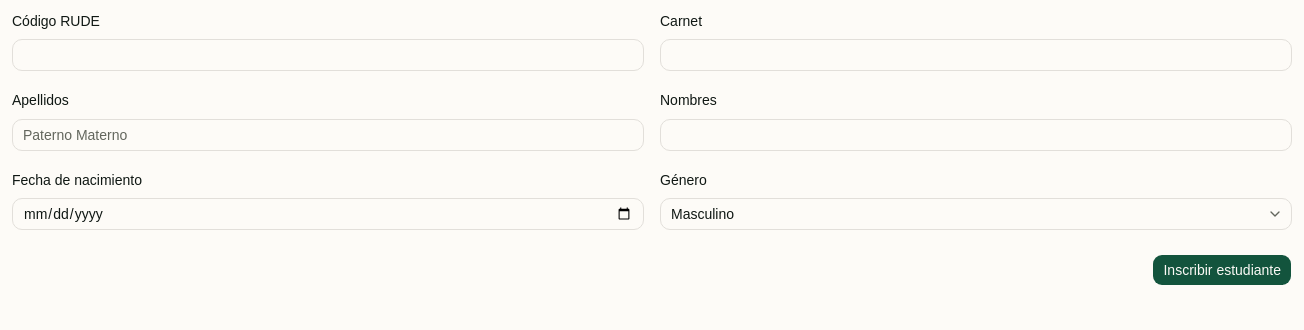
Test: ManualEnrollForm validation timing › reports a required field left empty as soon as it is left
Click the field labelled "Código RUDE" at (328, 55), box [12,39,644,71]
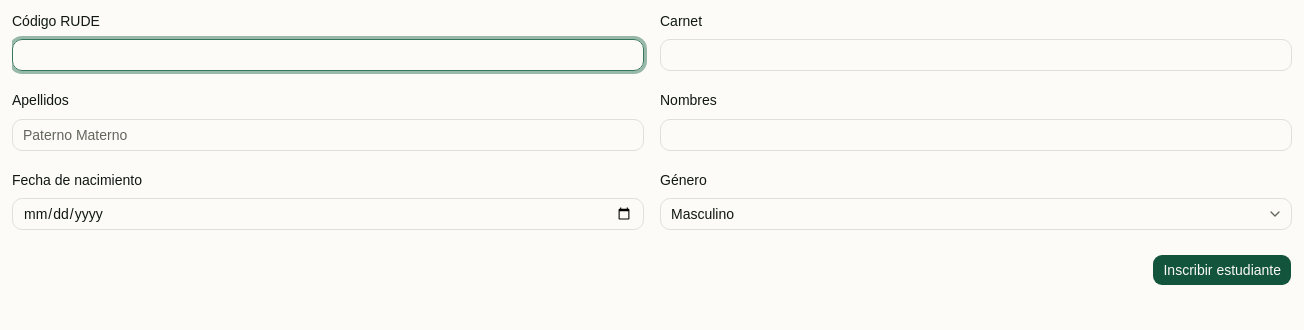
Expected: the text "RUDE requerido" is not shown
Press Tab
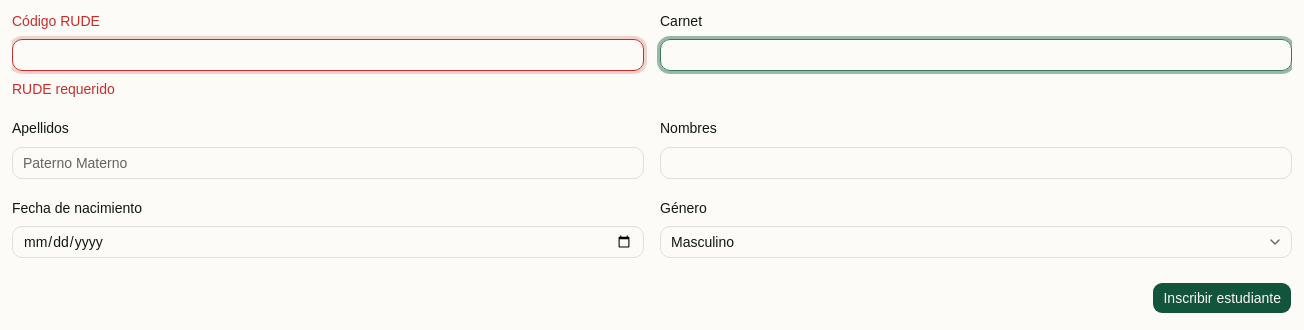
Expected: the text "RUDE requerido" is shown, [12,81,115,97]
